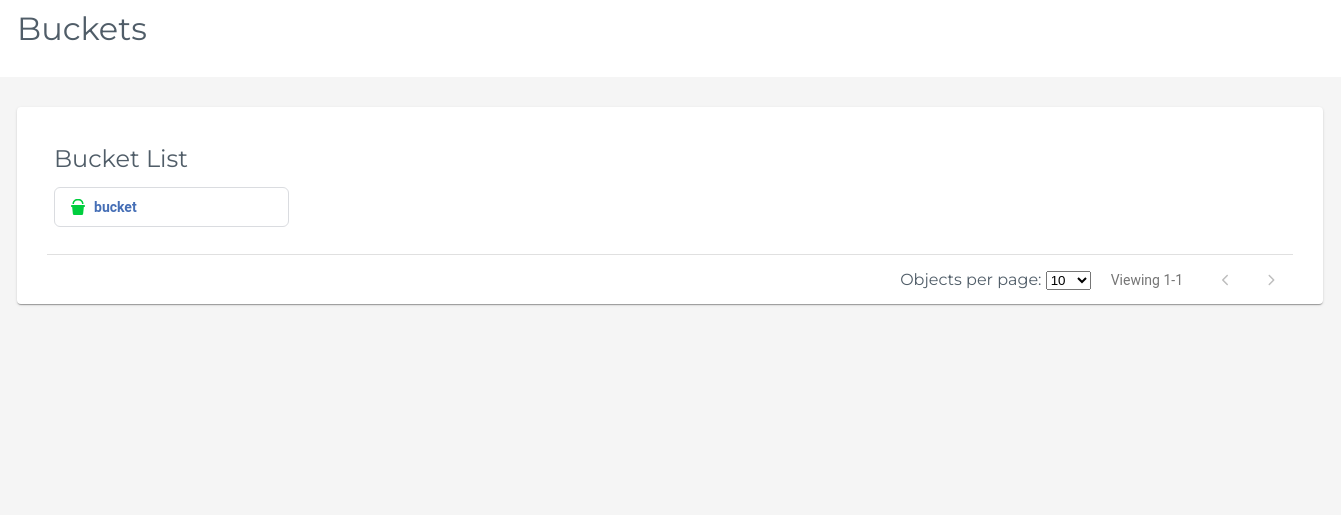
Test: uses safe prefix paths and resets cursor history when page size changes
The width and height of the screenshot is (1341, 515).
Click the button "bucket" at (172, 207), box x1=54 y1=187 x2=289 y2=227
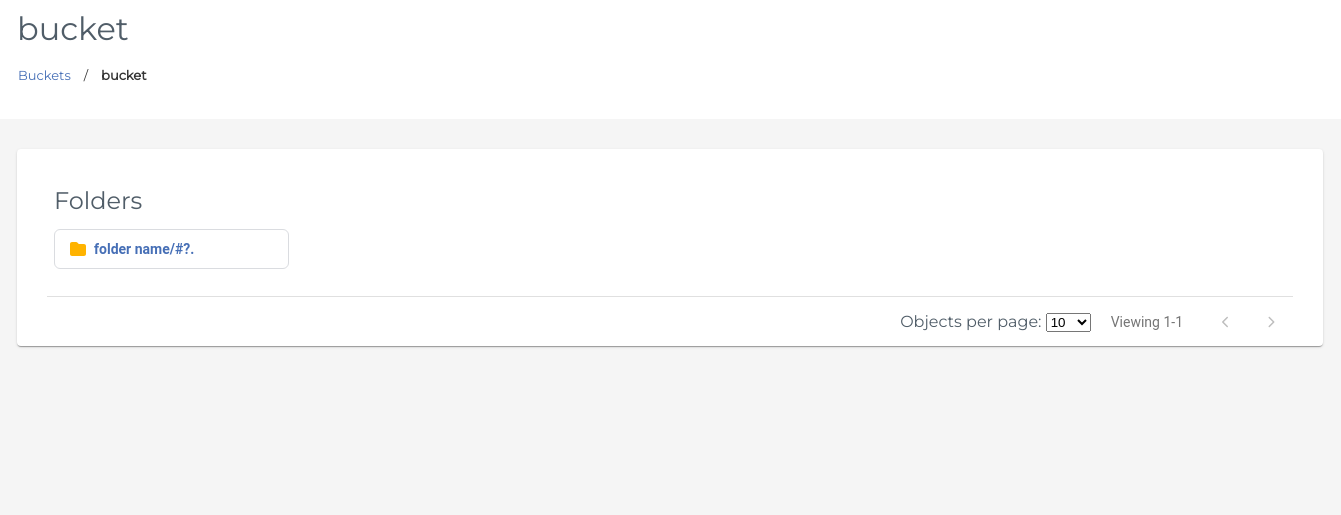
Now the text "folder name/#?." is shown, box x1=94 y1=241 x2=194 y2=257
Click the button "folder name/#?." at (172, 249), box x1=54 y1=229 x2=289 y2=269
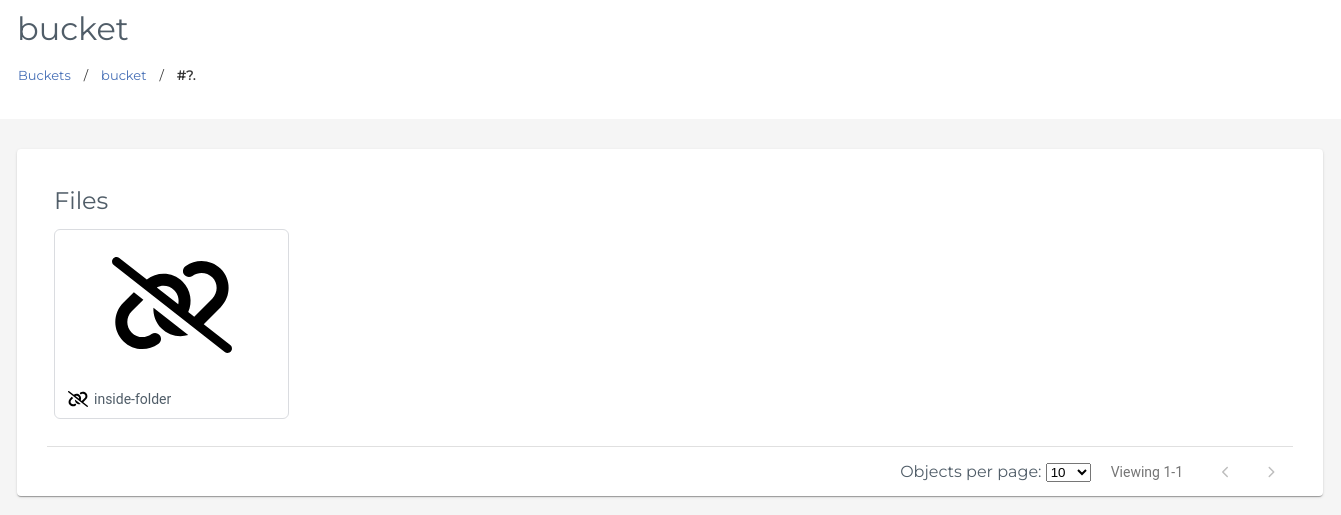
Now the text "inside-folder" is shown, box x1=94 y1=391 x2=171 y2=407
Select "25" in the dropdown at (1068, 472), box x1=1046 y1=462 x2=1091 y2=482
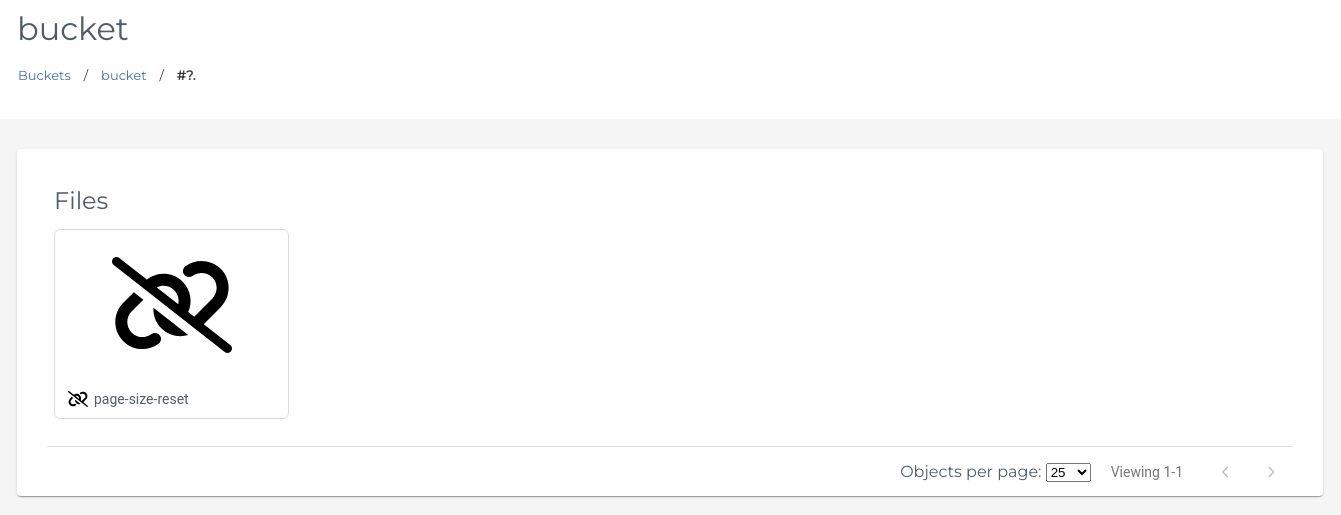
Now the text "page-size-reset" is shown, box x1=94 y1=391 x2=189 y2=407
Now the dropdown shows "25", box x1=1046 y1=462 x2=1091 y2=482
